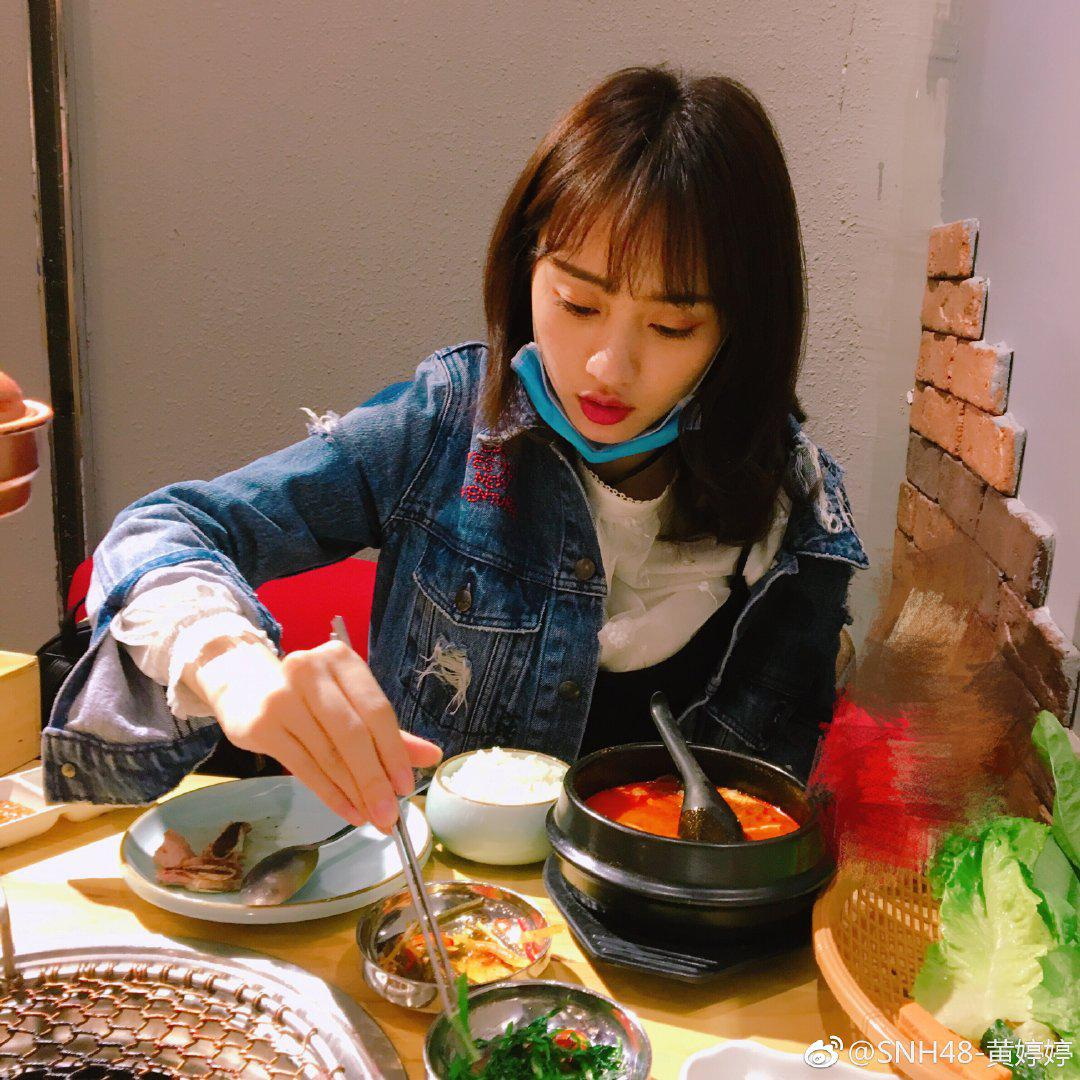WRONG: (535, 236, 726, 454)
